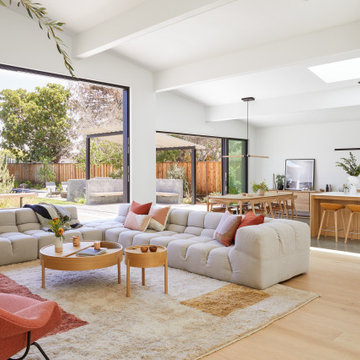chair: (0, 290, 63, 360)
dining table set: (312, 190, 360, 245), (207, 191, 300, 218)
flower vase: (47, 212, 70, 253)
small plant: (333, 150, 360, 193), (250, 180, 270, 199)
sofa: (103, 200, 312, 291), (0, 199, 104, 268)
table: (38, 239, 123, 289), (124, 242, 170, 298)
